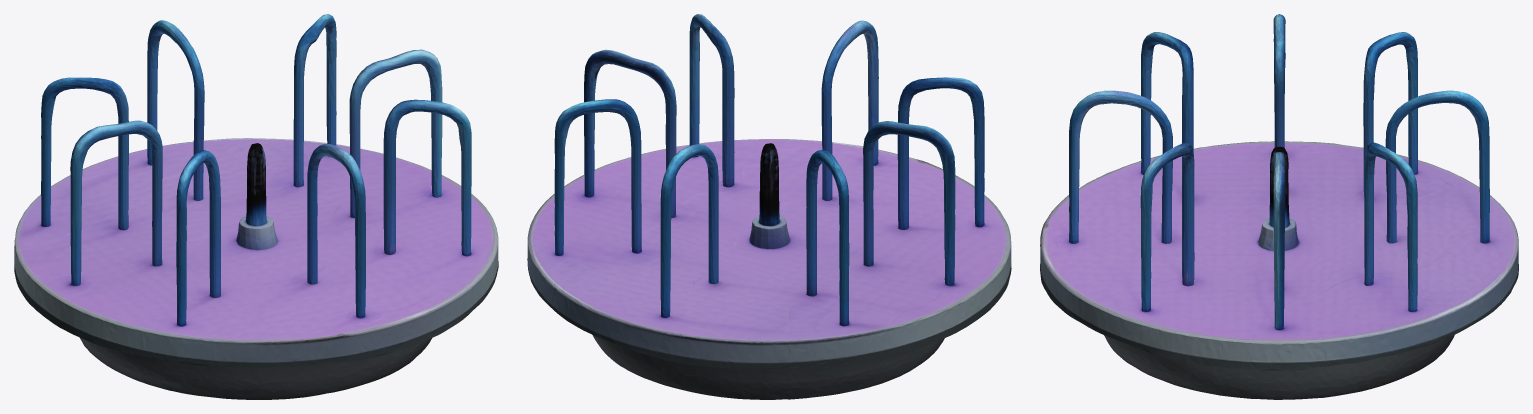
The picture shows the model from 3 angles, left to right: view 1: azimuth 30°, elevation 25°; view 2: azimuth 150°, elevation 25°; view 3: azimuth 270°, elevation 25°; orthographic projection.
Parts seen in each view (by area): view 1: world; view 2: world; view 3: world.
Boxes of the visible parts, x1,y1,x2,y2 form: world: [14, 14, 498, 399]; world: [527, 14, 1011, 399]; world: [1040, 14, 1518, 399].
Size of the model in its own units: 1 by 0.5422 by 1.
Materials: 1 (1 with a texture image).
